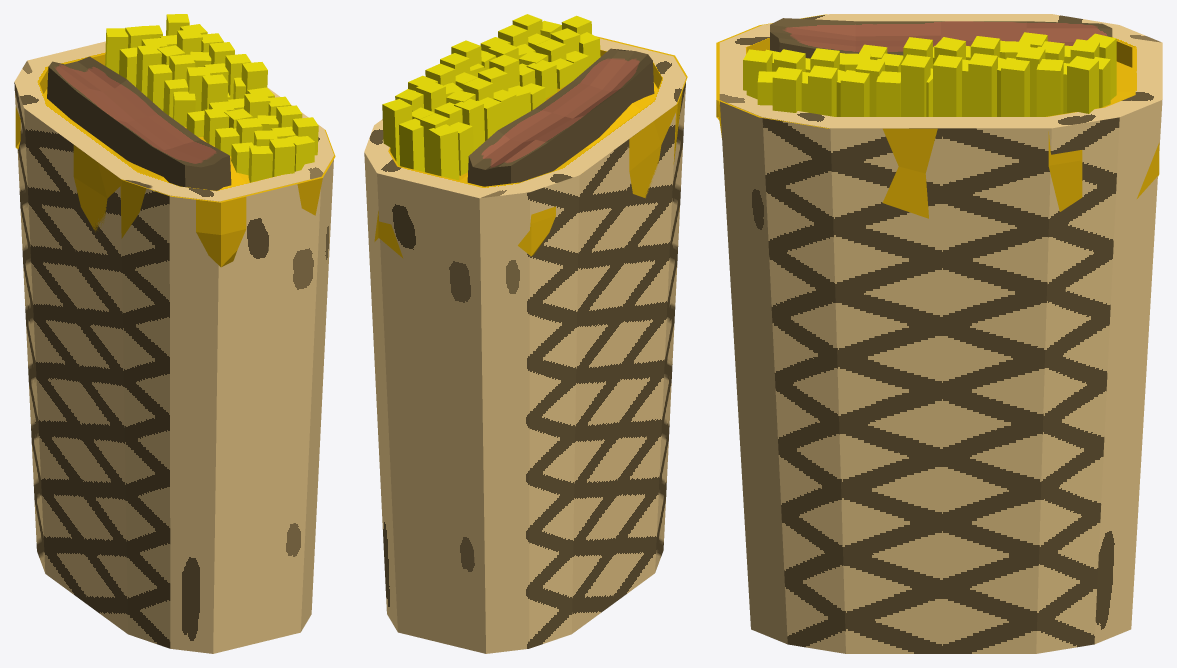
The model's file is Tacos.glb.
3 views of the same model, side by side, from view 1: azimuth 30°, elevation 25°; view 2: azimuth 150°, elevation 25°; view 3: azimuth 270°, elevation 25° (orthographic). The views are drawn at different scales.
Parts seen in each view (by area): view 1: TacosWrap, Fries, Steak, Sauce; view 2: TacosWrap, Fries, Steak, Sauce; view 3: TacosWrap, Fries, Steak, Sauce.
Part boxes in pixels (x1=…): TacosWrap: x1=14, y1=41, x2=333, y2=653; Fries: x1=105, y1=14, x2=318, y2=182; Steak: x1=47, y1=56, x2=231, y2=190; Sauce: x1=15, y1=53, x2=335, y2=267; TacosWrap: x1=364, y1=38, x2=685, y2=653; Fries: x1=382, y1=14, x2=600, y2=180; Steak: x1=467, y1=48, x2=654, y2=186; Sauce: x1=374, y1=36, x2=687, y2=258; TacosWrap: x1=719, y1=14, x2=1162, y2=653; Fries: x1=743, y1=32, x2=1116, y2=116; Steak: x1=770, y1=18, x2=1112, y2=58; Sauce: x1=716, y1=14, x2=1159, y2=218.
Bounding box in the file's own units: 0.3075 × 0.7654 × 0.5066.
Materials: 3 (3 with a texture image).
